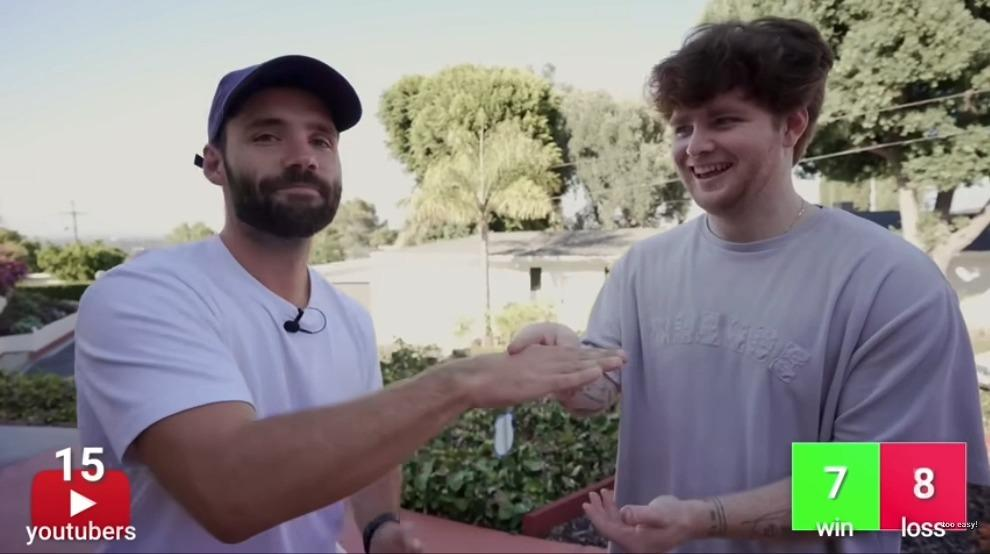Paper: (462, 345, 632, 403)
Scissors: (506, 317, 576, 354)
